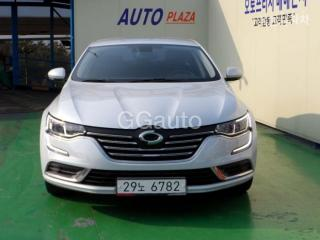2: (123, 181, 130, 193), (174, 180, 181, 192)
6: (150, 181, 158, 192)
7: (158, 181, 165, 192)
8: (165, 181, 173, 192)
9: (130, 181, 137, 193)
plate: (112, 175, 190, 200)
노: (137, 181, 146, 193)
